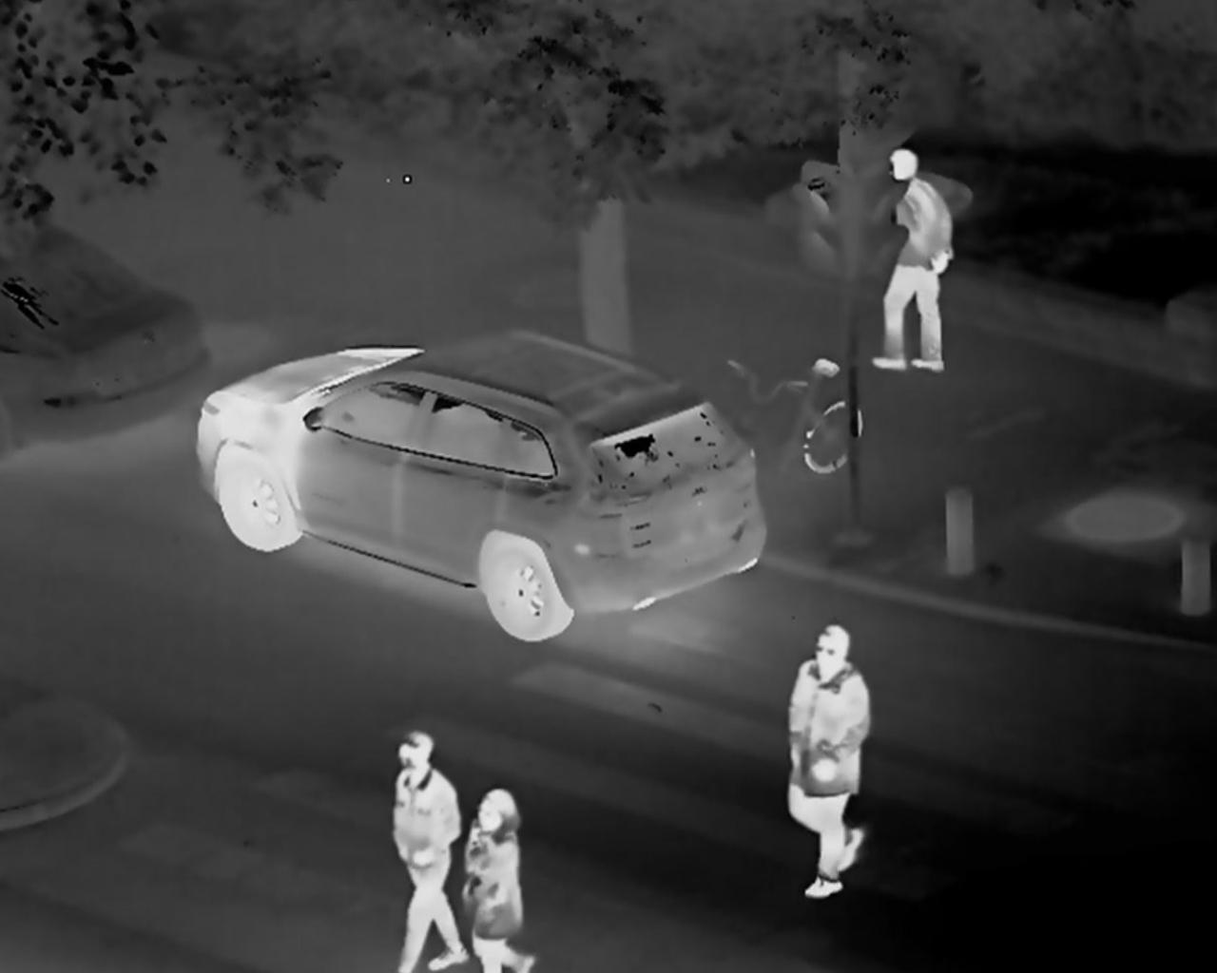person: (772, 623, 863, 900), (860, 148, 951, 376), (386, 730, 465, 971), (457, 785, 534, 973)
